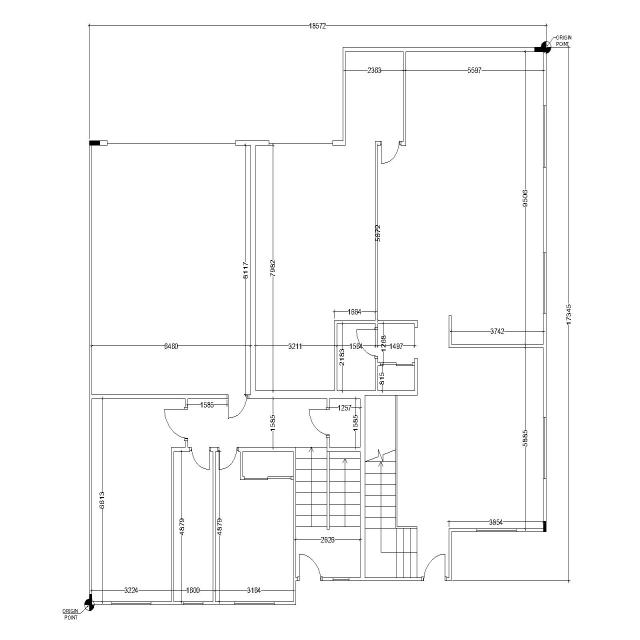Column: (89, 140, 100, 146), (534, 47, 546, 52), (89, 594, 92, 605), (544, 521, 546, 532)
Door: (164, 407, 188, 441), (421, 553, 447, 581), (298, 552, 323, 581), (306, 408, 330, 438), (356, 328, 378, 358), (227, 394, 249, 420), (217, 447, 239, 471), (380, 141, 401, 164), (190, 447, 210, 470)
Sliding Door: (244, 476, 294, 480), (378, 362, 414, 366)
Staircase: (365, 395, 449, 578), (296, 452, 360, 578)
Window: (234, 601, 274, 605), (112, 601, 151, 605), (544, 106, 546, 168), (544, 252, 546, 314), (544, 417, 546, 479), (476, 529, 516, 532), (183, 601, 203, 605), (333, 577, 349, 581)
